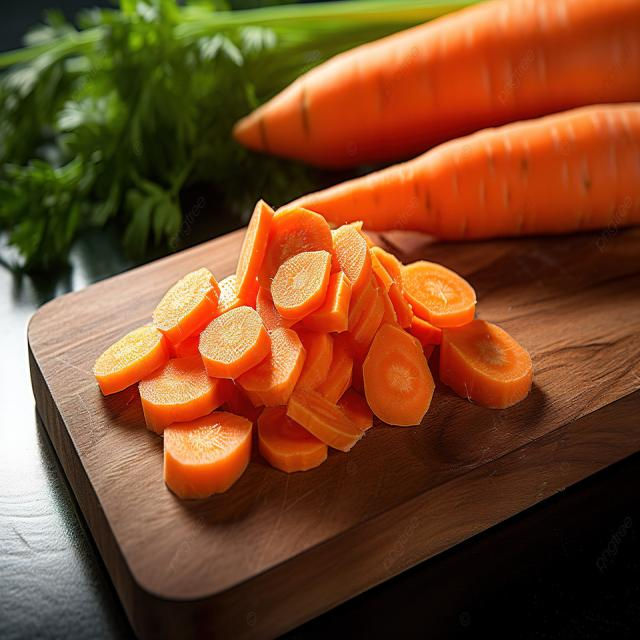ca rot: (95, 201, 532, 498)
